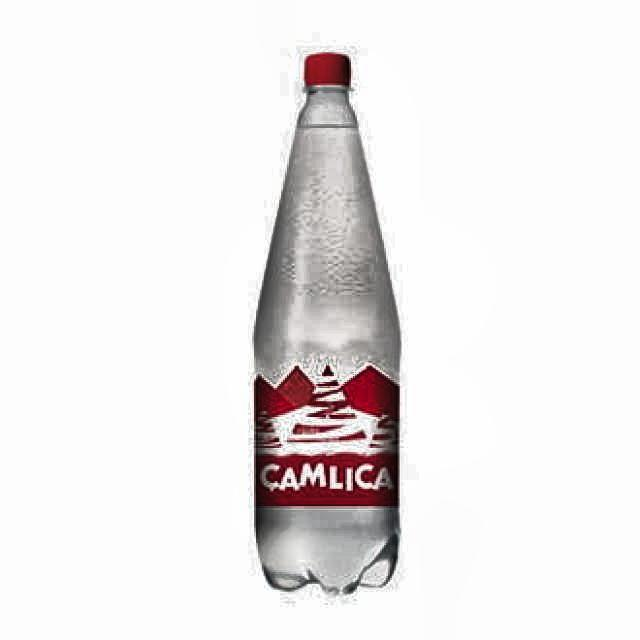plastic: (254, 51, 403, 596)
